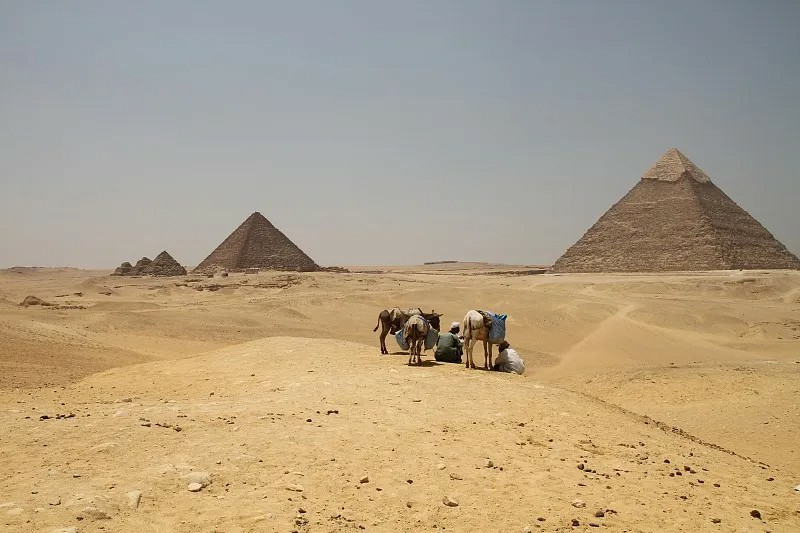Pyramid: (547, 149, 800, 272), (191, 211, 322, 276), (142, 252, 187, 277)
